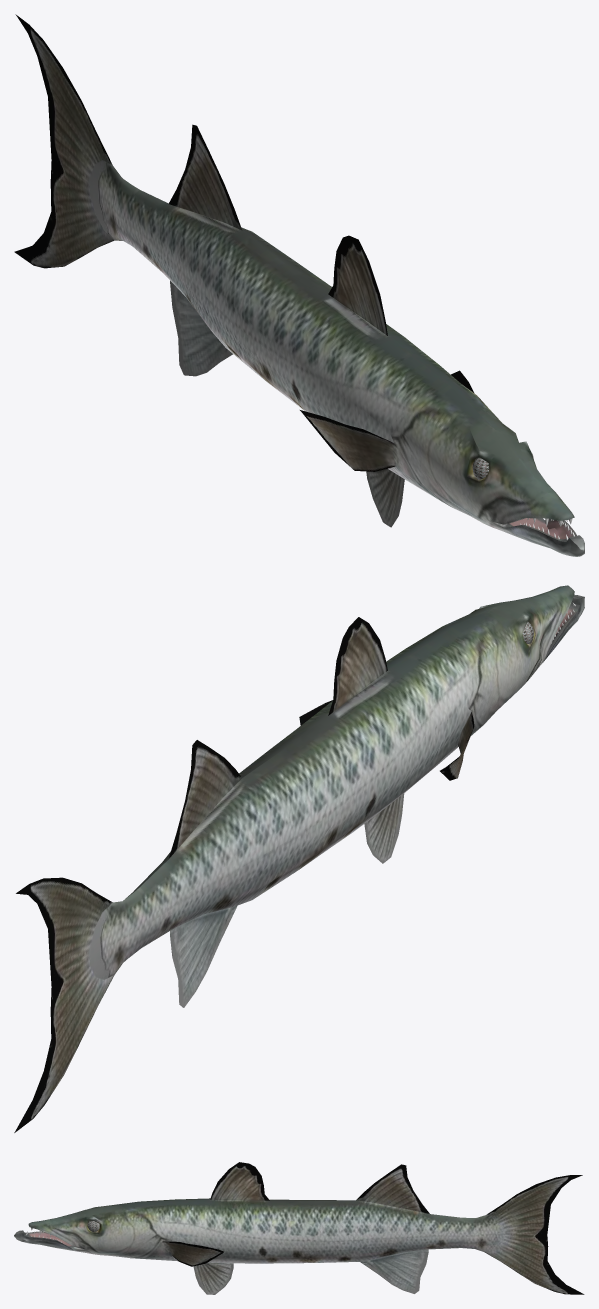
File: barracuda.glb
3 renders of one model, top to bottom at view 1: azimuth 30°, elevation 25°; view 2: azimuth 150°, elevation 25°; view 3: azimuth 270°, elevation 25°, orthographic. The views are drawn at different scales.
Parts seen in each view (by area): view 1: Object_2; view 2: Object_2; view 3: Object_2.
Part boxes in pixels (left/top/right/bottom): Object_2: left=14, top=14, right=584, bottom=556; Object_2: left=14, top=585, right=584, bottom=1132; Object_2: left=14, top=1162, right=584, bottom=1294.
Size of the model in its own units: 0.4068 by 0.6416 by 2.5.
1 material, 1 textured.
